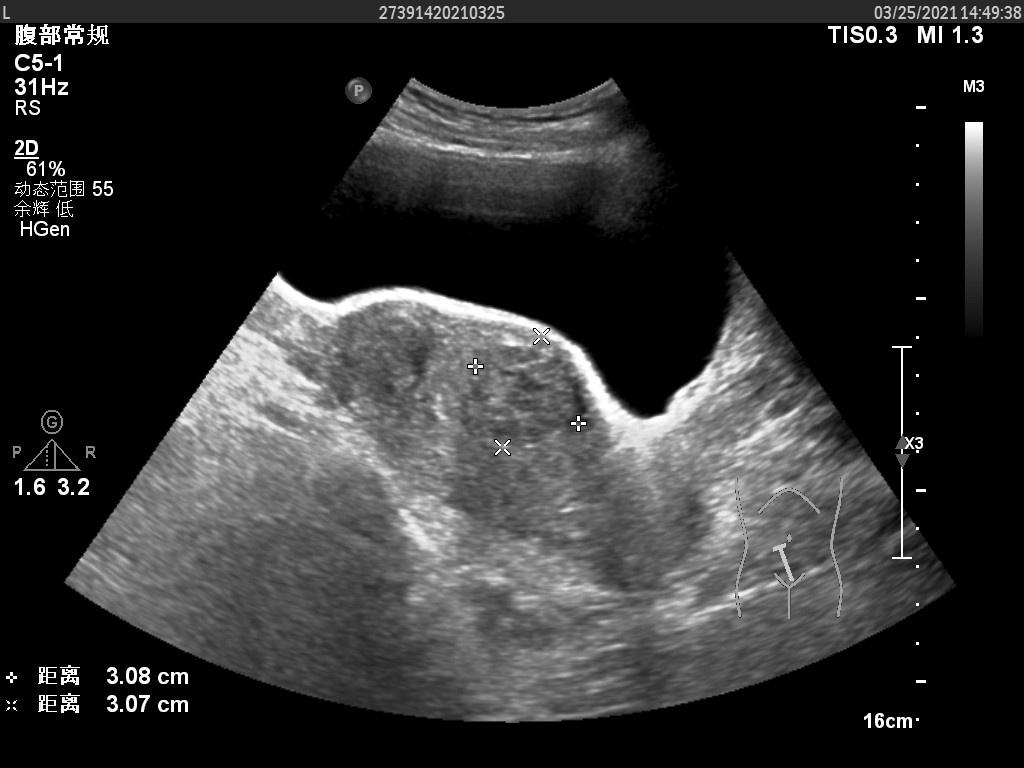肌瘤: (476, 334, 579, 448)
